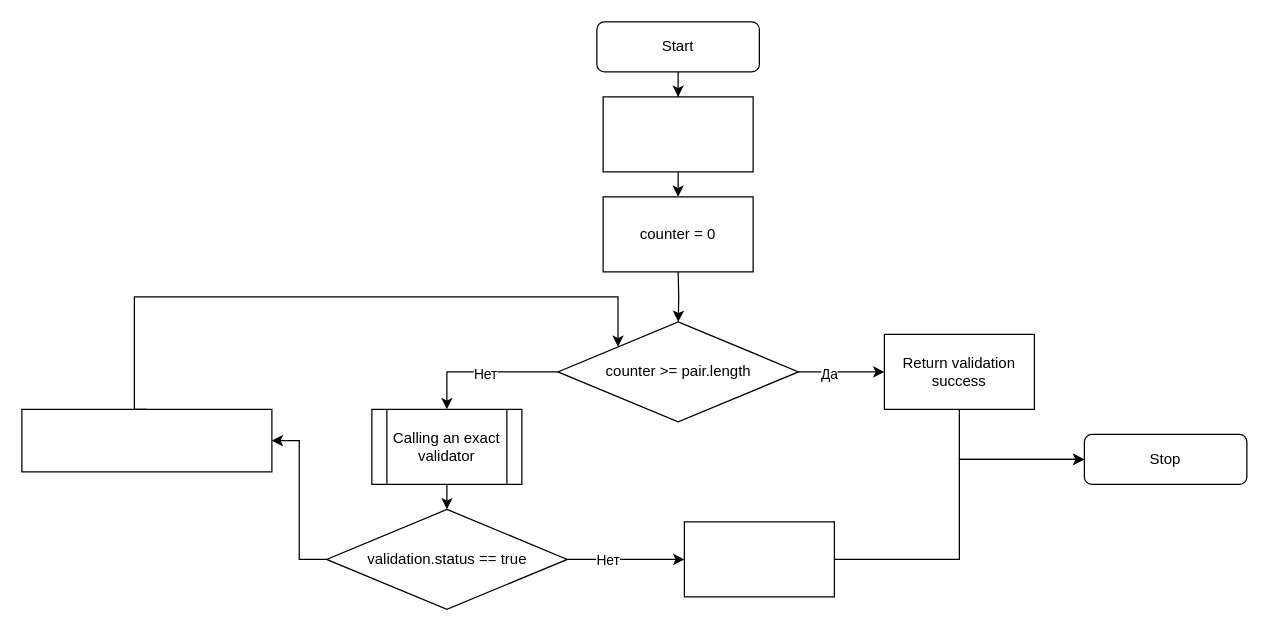
The diagram is 1269 pixels wide and 631 high, and some of its shapes have lost their labels. The shapes that lost their labels are listed below. From the top down, each one's centre as x and y in pixels, then its label:
point (677, 134): Forming array of pairs like: value, validator
point (146, 440): counter = counter + 1
point (758, 559): Return validation error with message
